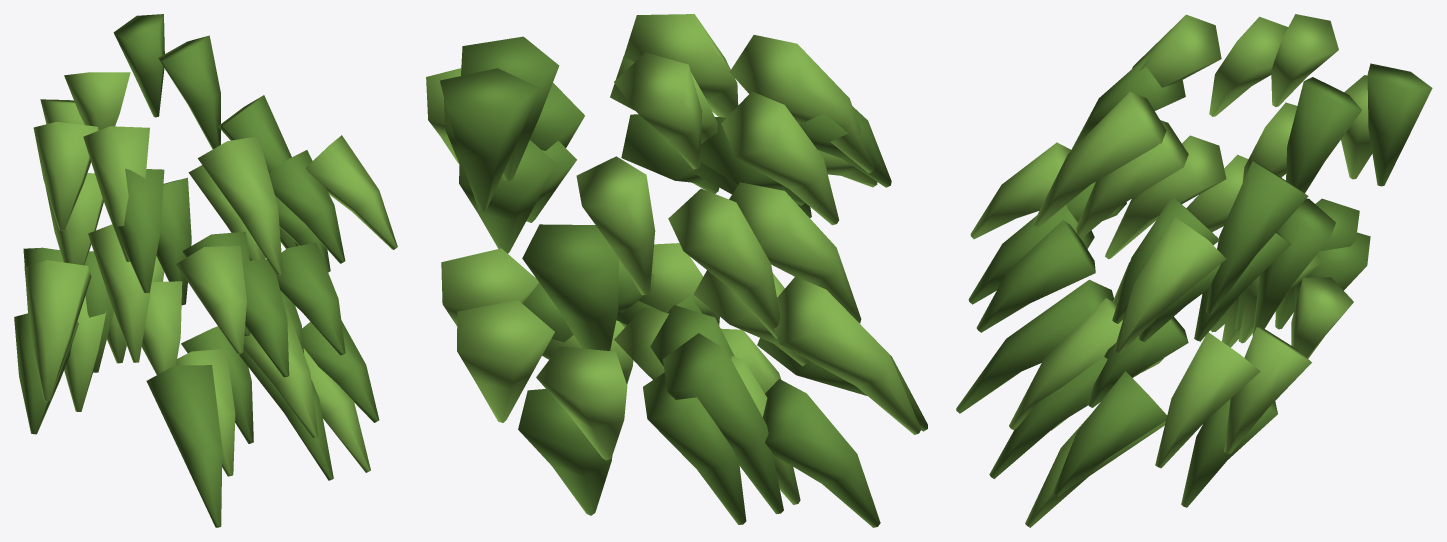
File: were_arm_fur.glb
The picture shows the model from 3 angles, left to right: view 1: azimuth 30°, elevation 25°; view 2: azimuth 150°, elevation 25°; view 3: azimuth 270°, elevation 25°; orthographic projection. The views are drawn at different scales.
Parts seen in each view (by area): view 1: piece; view 2: piece; view 3: piece.
Boxes of the visible parts, x1,y1,x2,y2 form: piece: [14, 14, 397, 527]; piece: [426, 14, 927, 527]; piece: [956, 14, 1432, 527].
Bounding box in the file's own units: 0.3675 × 0.3861 × 0.3889.
